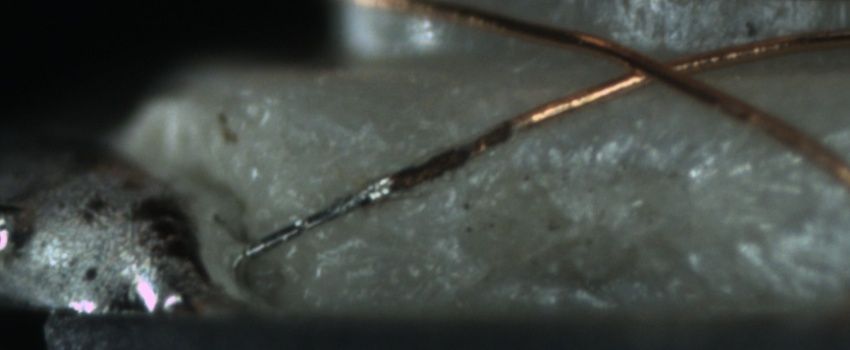CL: (595, 42, 721, 96)
DL: (508, 116, 787, 179)
TS: (244, 175, 393, 258)
TTCW: (233, 154, 440, 267)
